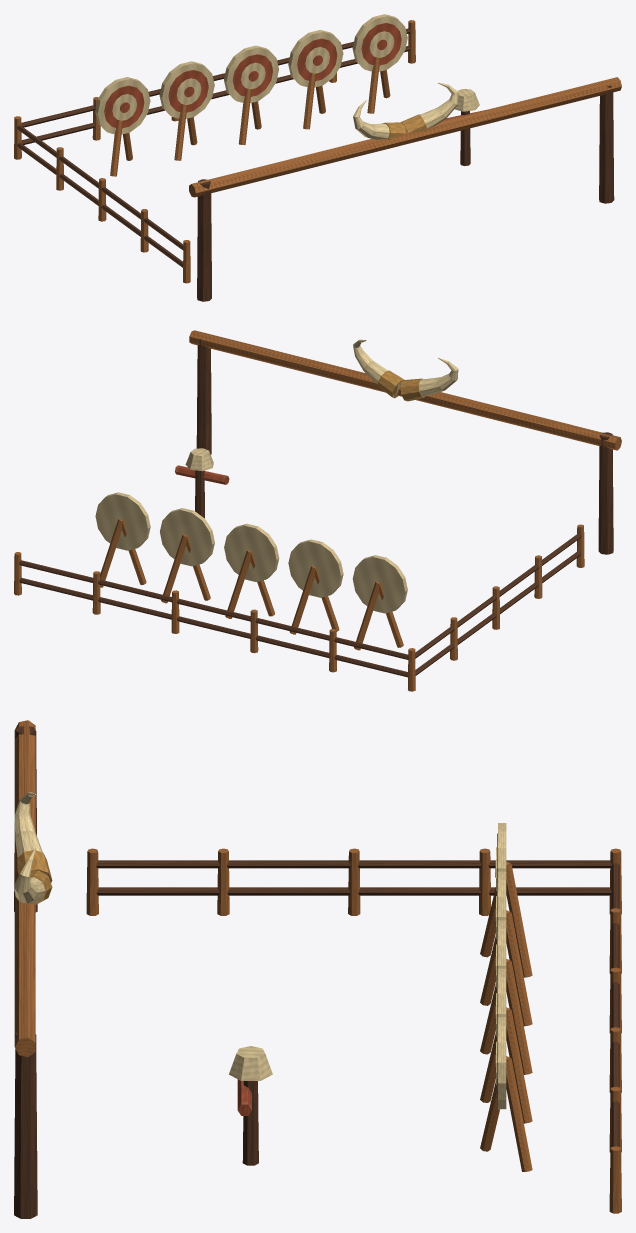
File: training.glb
3 renders of one model, top to bottom at view 1: azimuth 30°, elevation 25°; view 2: azimuth 150°, elevation 25°; view 3: azimuth 270°, elevation 25°, orthographic. The views are drawn at different scales.
Visible parts, largest first — view 1: training_F4; view 2: training_F4; view 3: training_F4.
Boxes of the visible parts, box(x1,y1,x2,y2) form: training_F4: box(14, 14, 621, 301); training_F4: box(14, 330, 621, 691); training_F4: box(14, 720, 621, 1218).
Bounding box in the file's own units: 13.78 × 4.84 × 11.
1 material, 1 textured.
